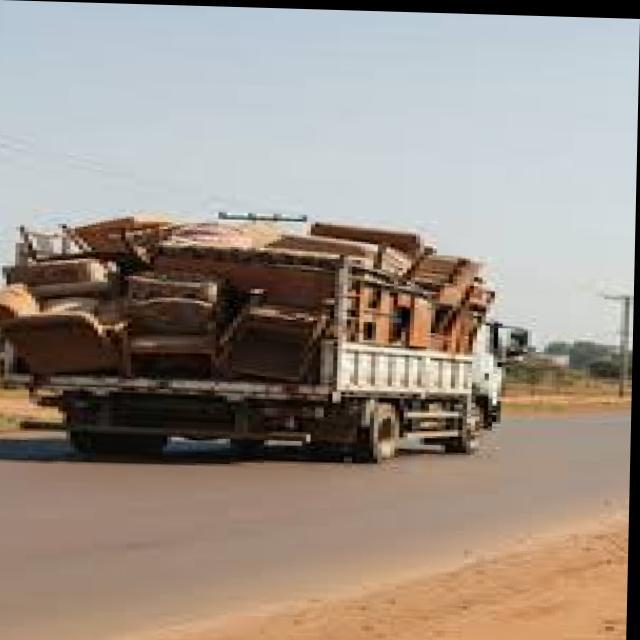uncovered: (0, 212, 506, 469)
